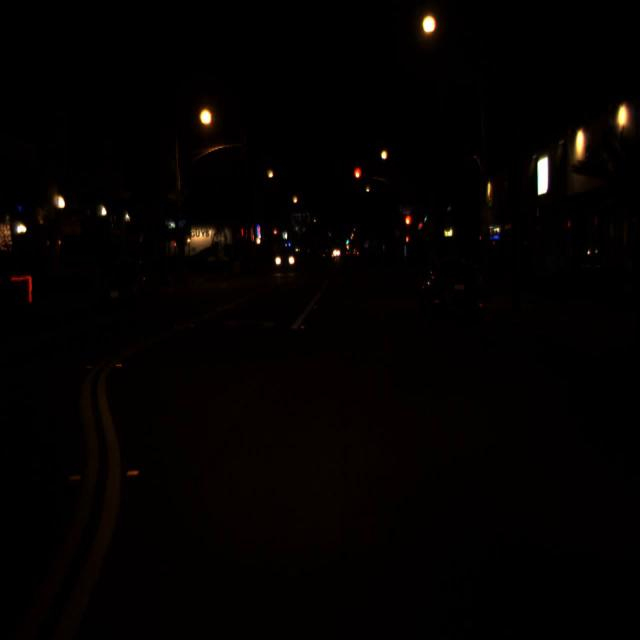go: (345, 237, 349, 244)
go traffic light: (345, 237, 349, 244)
stop: (354, 167, 362, 189), (404, 215, 412, 232)
stop traffic light: (354, 167, 362, 189), (404, 215, 412, 232)
